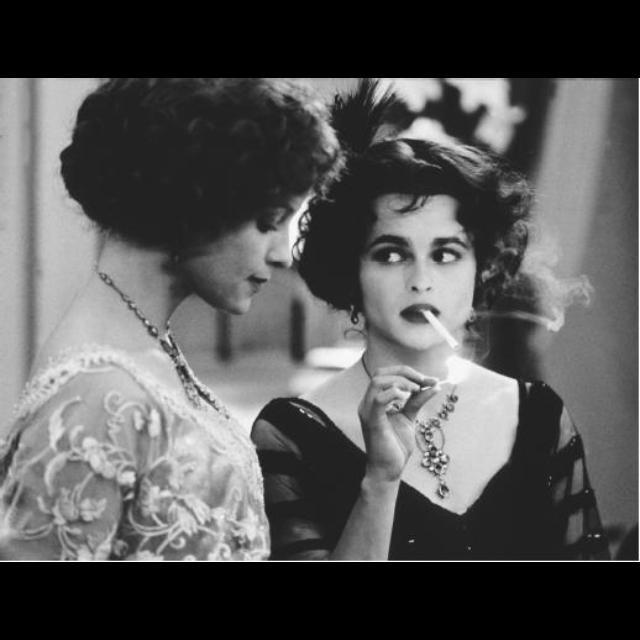rokok: (422, 307, 462, 351)
